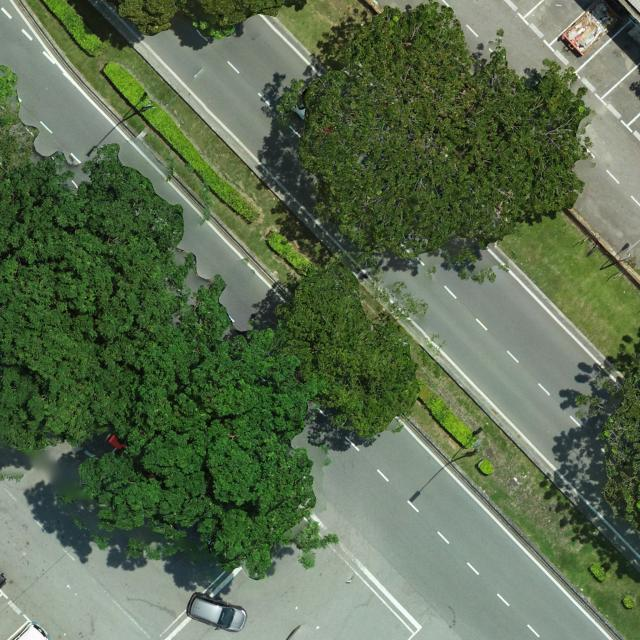tree: (276, 0, 594, 281), (0, 142, 234, 458), (76, 325, 317, 580), (274, 261, 424, 446), (604, 346, 640, 536)
